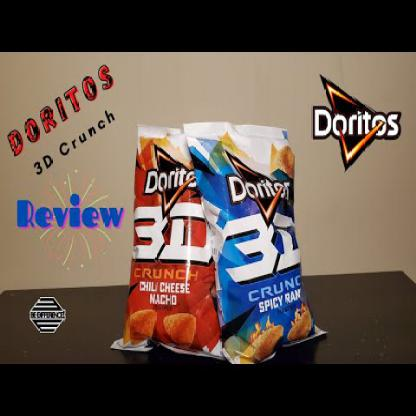potatochip: (179, 112, 329, 373), (104, 117, 235, 366)
